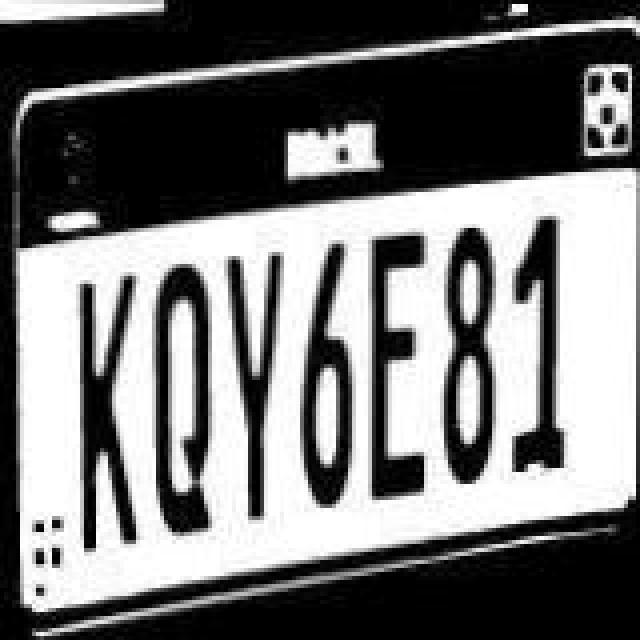1: (508, 214, 576, 474)
6: (298, 230, 362, 510)
8: (440, 220, 508, 488)
E: (360, 226, 436, 498)
K: (76, 260, 144, 548)
Q: (154, 262, 218, 542)
Y: (226, 242, 298, 530)
